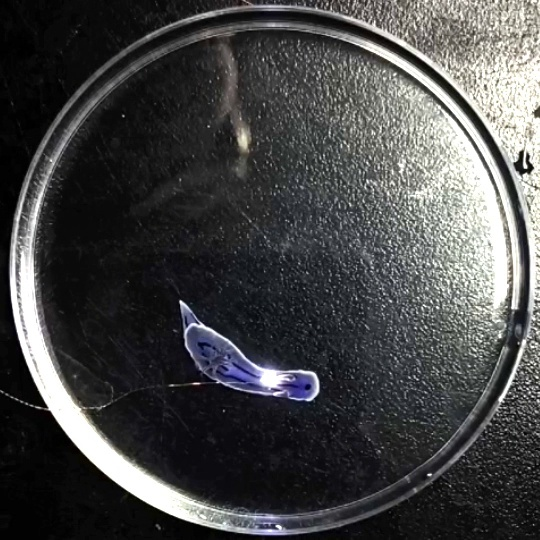sea-slug: (106, 53, 305, 396)
